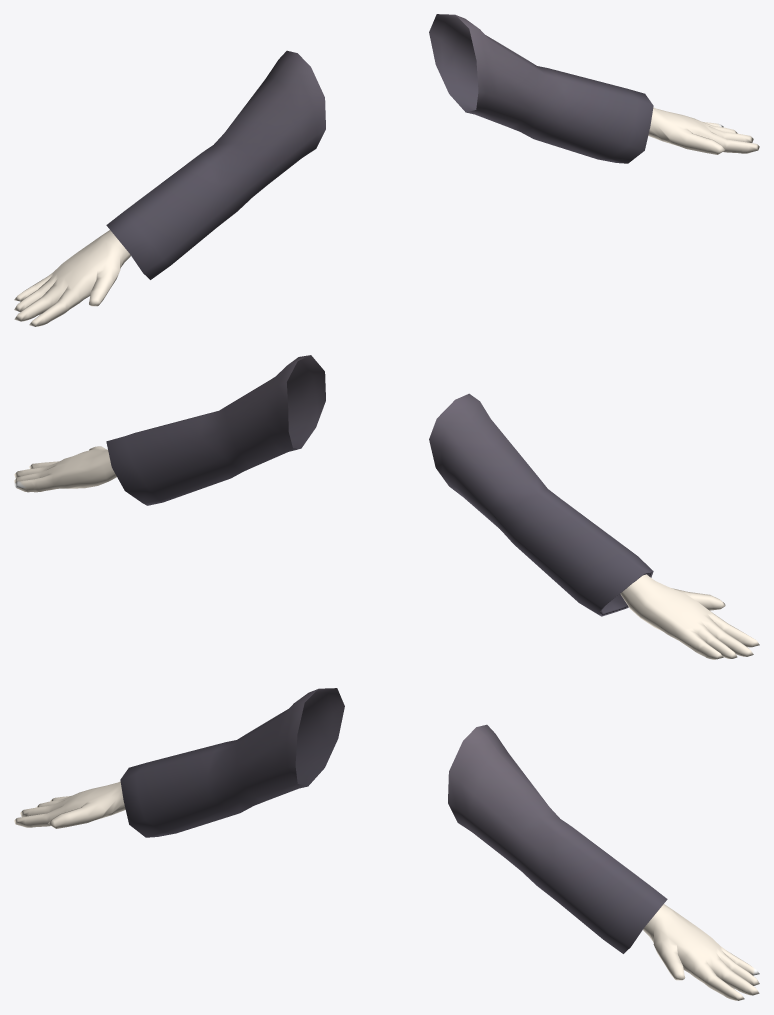
The model's file is Arm Test.fbx.
3 views of the same model, one above another, from view 1: azimuth 30°, elevation 25°; view 2: azimuth 150°, elevation 25°; view 3: azimuth 330°, elevation 25° (orthographic).
Visible parts, largest first — view 1: body5; view 2: body5; view 3: body5.
Part boxes in pixels (x1,y1,x2,y2): body5: (14, 14, 759, 326); body5: (14, 355, 759, 659); body5: (14, 688, 759, 1000).
Size of the model in its own units: 109 by 27.41 by 13.05.
